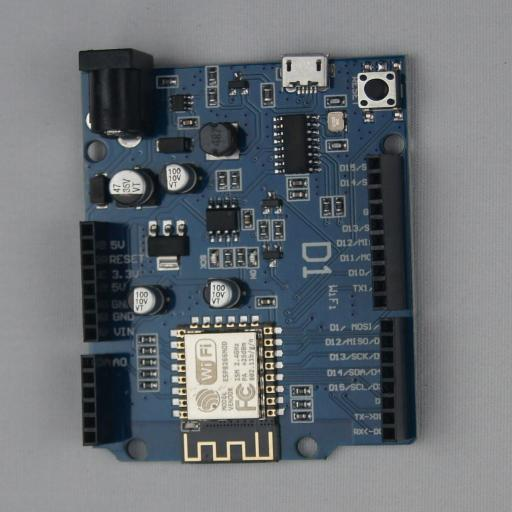Arduino Uno WiFi Shield: (79, 48, 428, 464)
